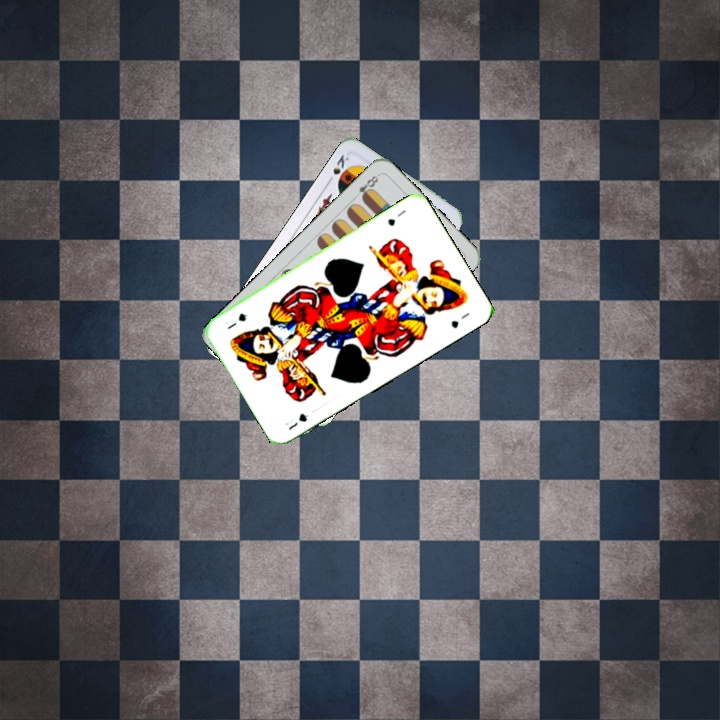E8: (354, 170, 382, 203)
GU: (281, 409, 310, 433), (384, 205, 409, 229)
SK: (323, 150, 352, 187)
